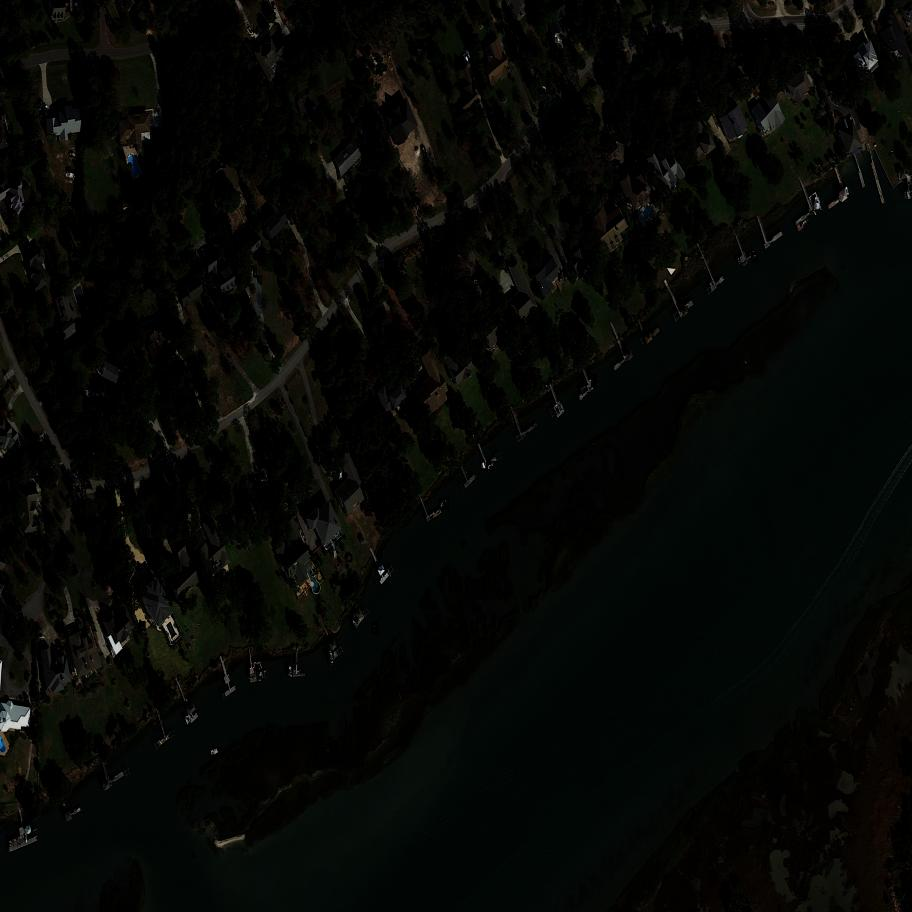ship: (439, 498, 451, 510), (486, 462, 497, 473), (351, 617, 359, 630), (327, 651, 334, 665), (65, 171, 77, 179), (219, 156, 227, 168), (211, 749, 221, 758), (591, 374, 598, 386), (750, 253, 759, 262), (138, 622, 147, 631), (246, 25, 254, 35), (814, 198, 820, 211), (289, 665, 294, 678), (560, 269, 565, 281), (185, 716, 191, 726), (374, 623, 379, 634), (556, 34, 562, 43), (271, 3, 277, 12), (258, 668, 262, 679), (558, 273, 563, 281)
small-vehicle: (73, 337, 82, 345), (257, 276, 263, 283), (254, 267, 258, 277), (834, 110, 840, 116), (70, 153, 72, 157)
